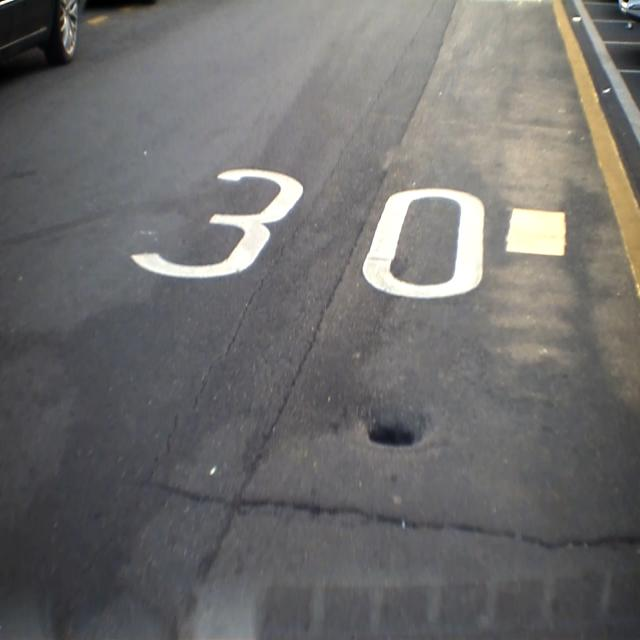Pothole: (346, 393, 442, 464)
